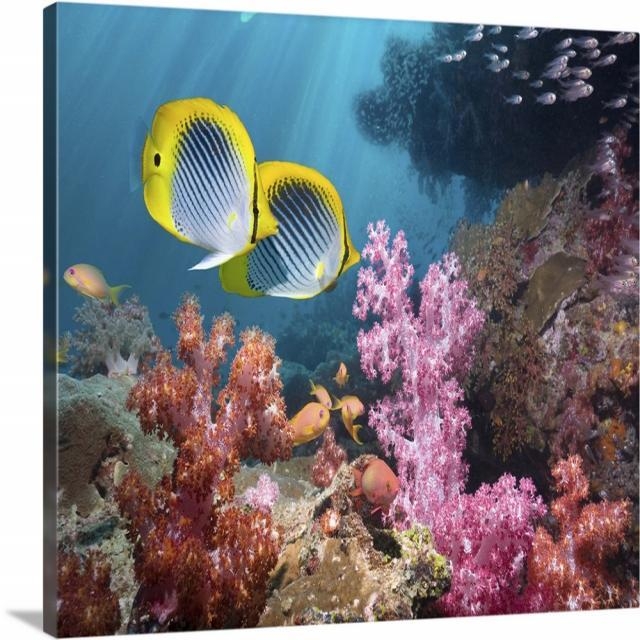ButterflyFish: (113, 70, 282, 262), (216, 171, 377, 306)
